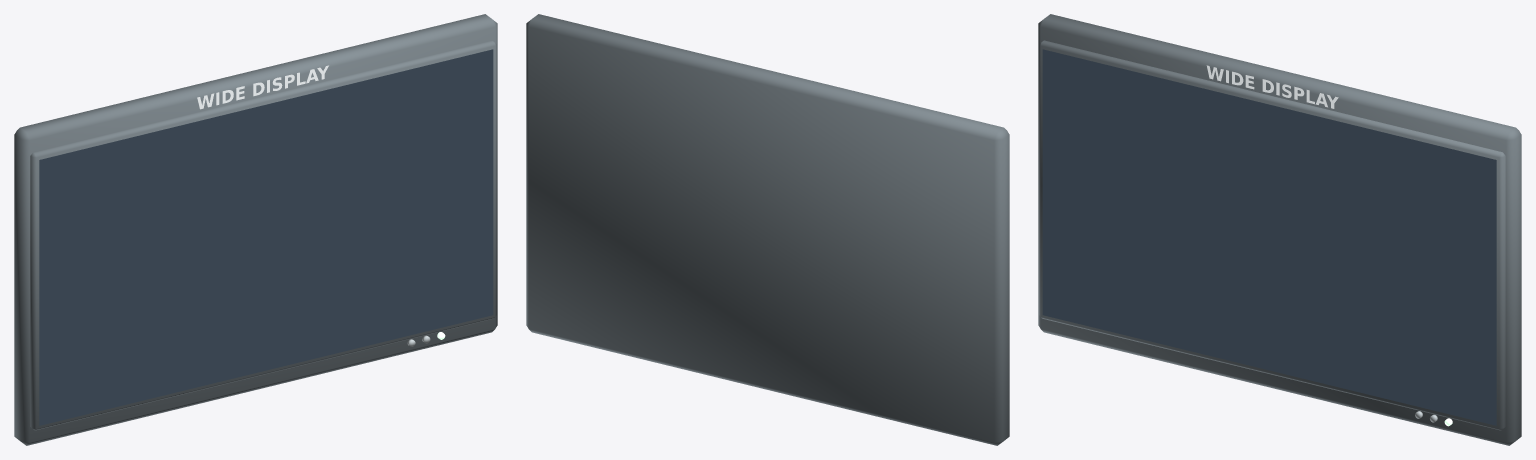
File: wide_display_standard.glb
3 renders of one model, left to right at view 1: azimuth 30°, elevation 25°; view 2: azimuth 150°, elevation 25°; view 3: azimuth 330°, elevation 25°, orthographic.
Parts seen in each view (by area): view 1: LiveViewSurface_glass, DisplayHousing_frame, LiveViewSurfaceFrame_frame, TypeLabel_white; view 2: DisplayHousing_frame; view 3: LiveViewSurface_glass, DisplayHousing_frame, LiveViewSurfaceFrame_frame, TypeLabel_white.
Boxes of the visible parts, x1,y1,x2,y2 form: LiveViewSurface_glass: [39, 49, 493, 425]; DisplayHousing_frame: [14, 14, 497, 445]; LiveViewSurfaceFrame_frame: [30, 40, 496, 430]; TypeLabel_white: [197, 65, 328, 109]; DisplayHousing_frame: [526, 14, 1009, 445]; LiveViewSurface_glass: [1042, 49, 1496, 425]; DisplayHousing_frame: [1038, 14, 1521, 445]; LiveViewSurfaceFrame_frame: [1039, 40, 1505, 430]; TypeLabel_white: [1206, 65, 1338, 108].
Size of the model in its own units: 2.73 by 1.72 by 0.168.
